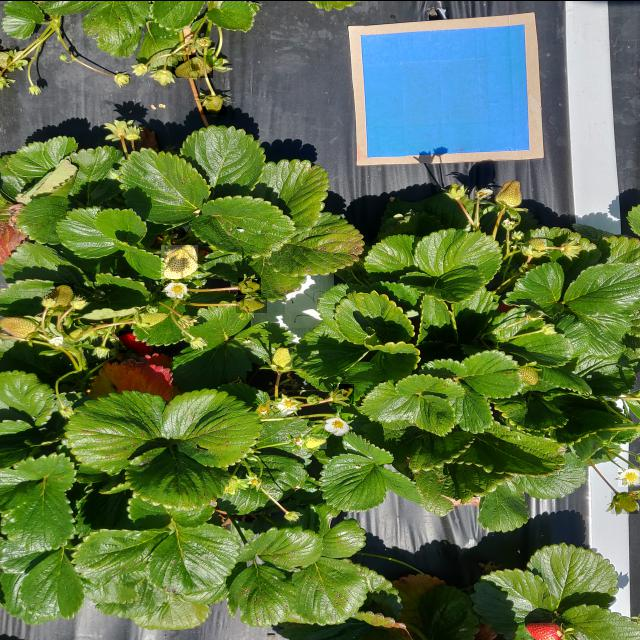Flower: (161, 280, 191, 298), (325, 416, 352, 434), (618, 466, 639, 487)
Green Strawberry: (161, 243, 199, 278), (172, 53, 214, 77), (42, 281, 75, 311), (0, 316, 37, 339), (494, 179, 524, 206), (611, 490, 639, 513), (201, 93, 228, 114), (514, 365, 542, 385), (236, 296, 268, 312), (523, 235, 550, 253), (334, 382, 356, 403), (272, 346, 294, 366), (238, 276, 262, 294), (301, 432, 328, 448), (275, 396, 299, 413), (221, 475, 241, 493), (0, 48, 14, 72)
Red Strawberry: (524, 621, 567, 639), (119, 329, 151, 352)
